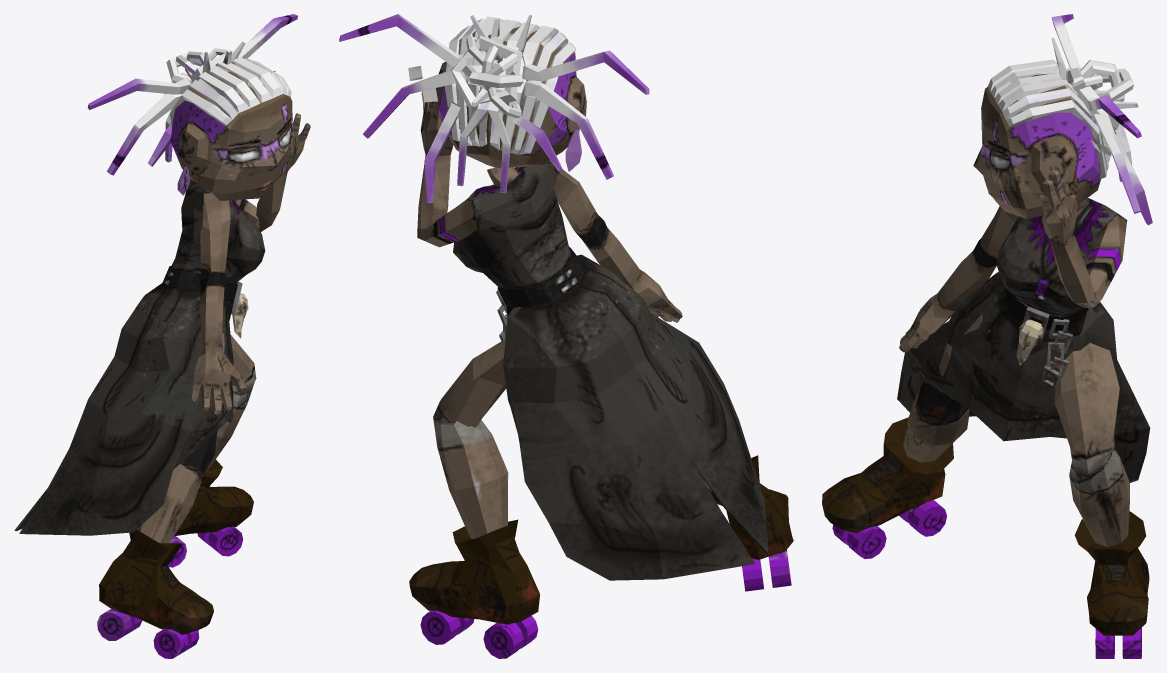
Rendered from bruja_000035.obj.
3 views of the same model, side by side, from view 1: azimuth 30°, elevation 25°; view 2: azimuth 150°, elevation 25°; view 3: azimuth 270°, elevation 25° (orthographic). The views are drawn at different scales.
Visible parts, largest first — view 1: Bruja_Plane.001; view 2: Bruja_Plane.001; view 3: Bruja_Plane.001.
Part boxes in pixels (left/top/right/bottom): Bruja_Plane.001: left=14, top=14, right=310, bottom=658; Bruja_Plane.001: left=339, top=14, right=793, bottom=658; Bruja_Plane.001: left=822, top=14, right=1152, bottom=658.
Size of the model in its own units: 9.95 by 15.44 by 7.77.
